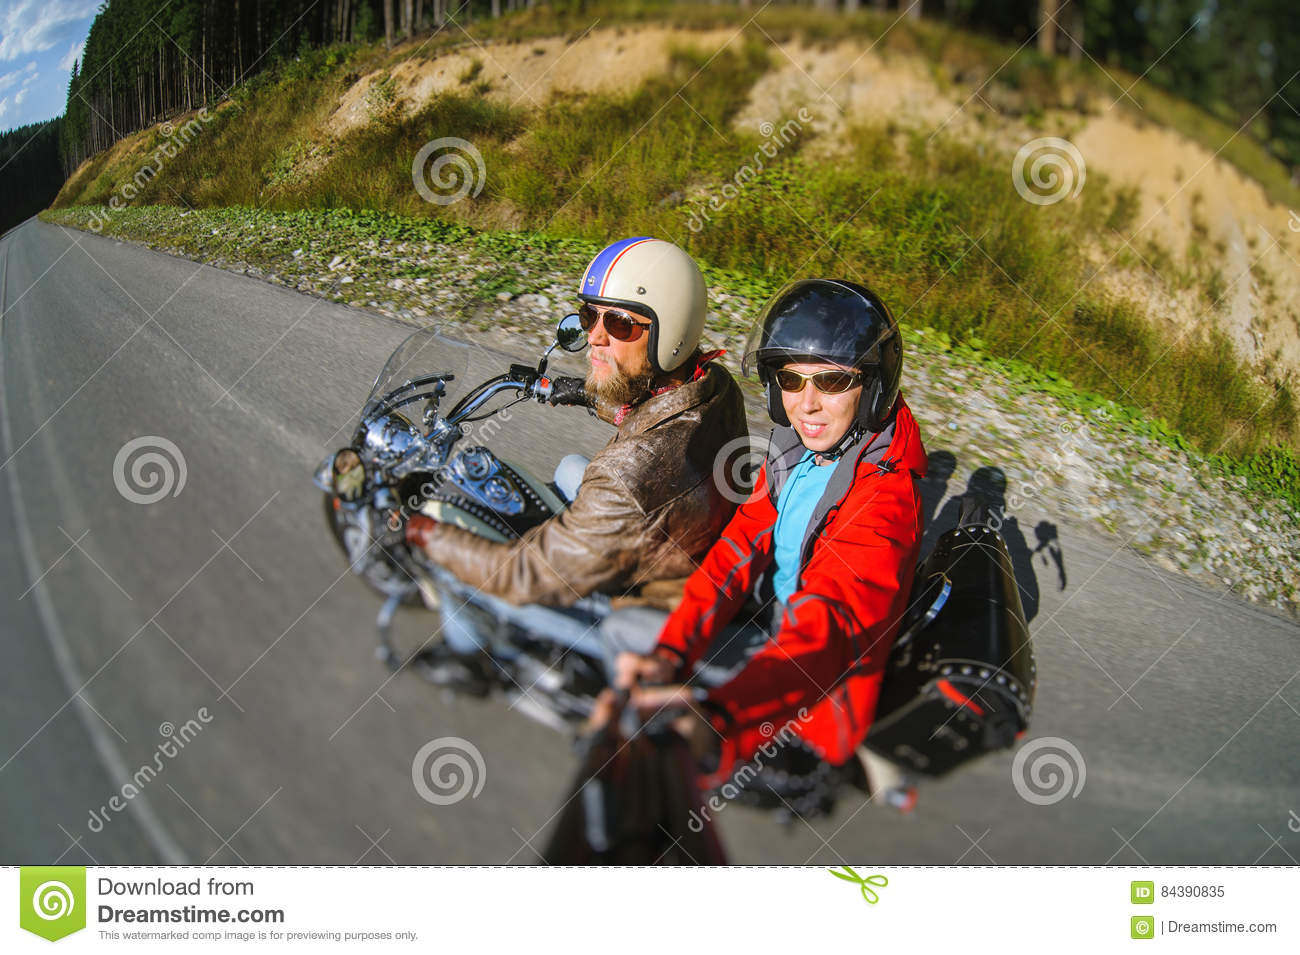helmet: (742, 254, 918, 440), (571, 234, 711, 370)
